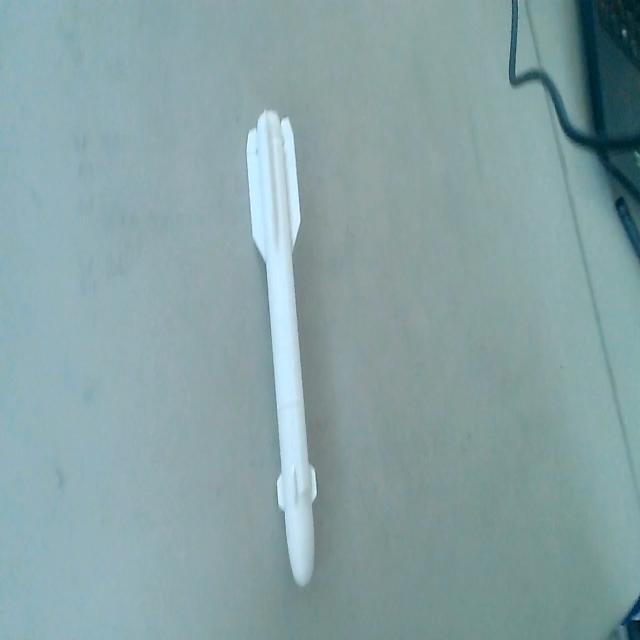Rocket: (244, 106, 322, 591)
